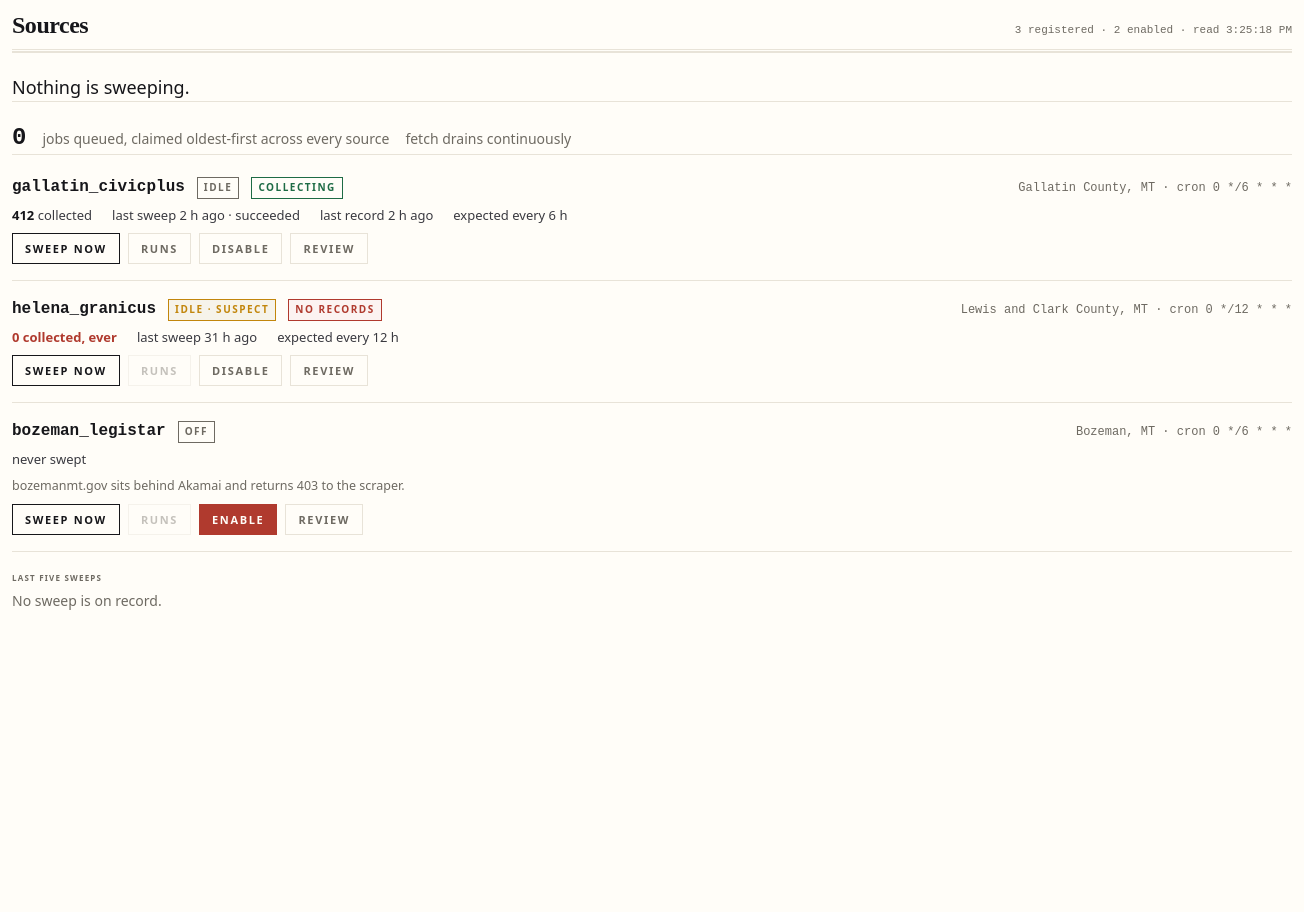
AdminSourcesPage › requires a typed reason before a source can be enabled
Click the button with test id "toggle-s3" at (238, 519), box [199, 504, 278, 535]
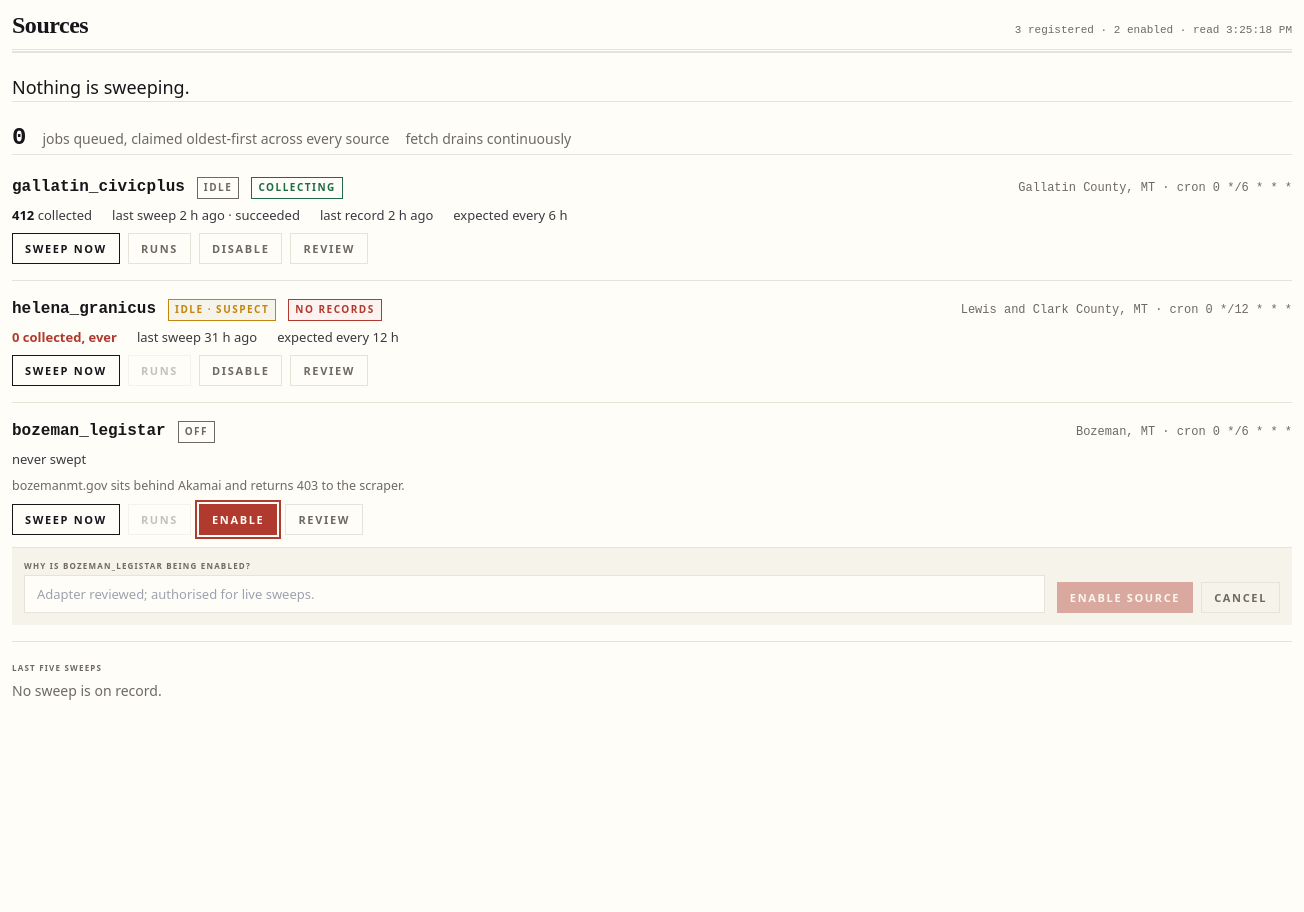
Expected: the button "Enable source" is disabled, [1057, 582, 1193, 613]
Type "Adapter reviewed." into the field labelled "Why is bozeman_legistar being enabled?" at (534, 594), box [24, 575, 1045, 613]
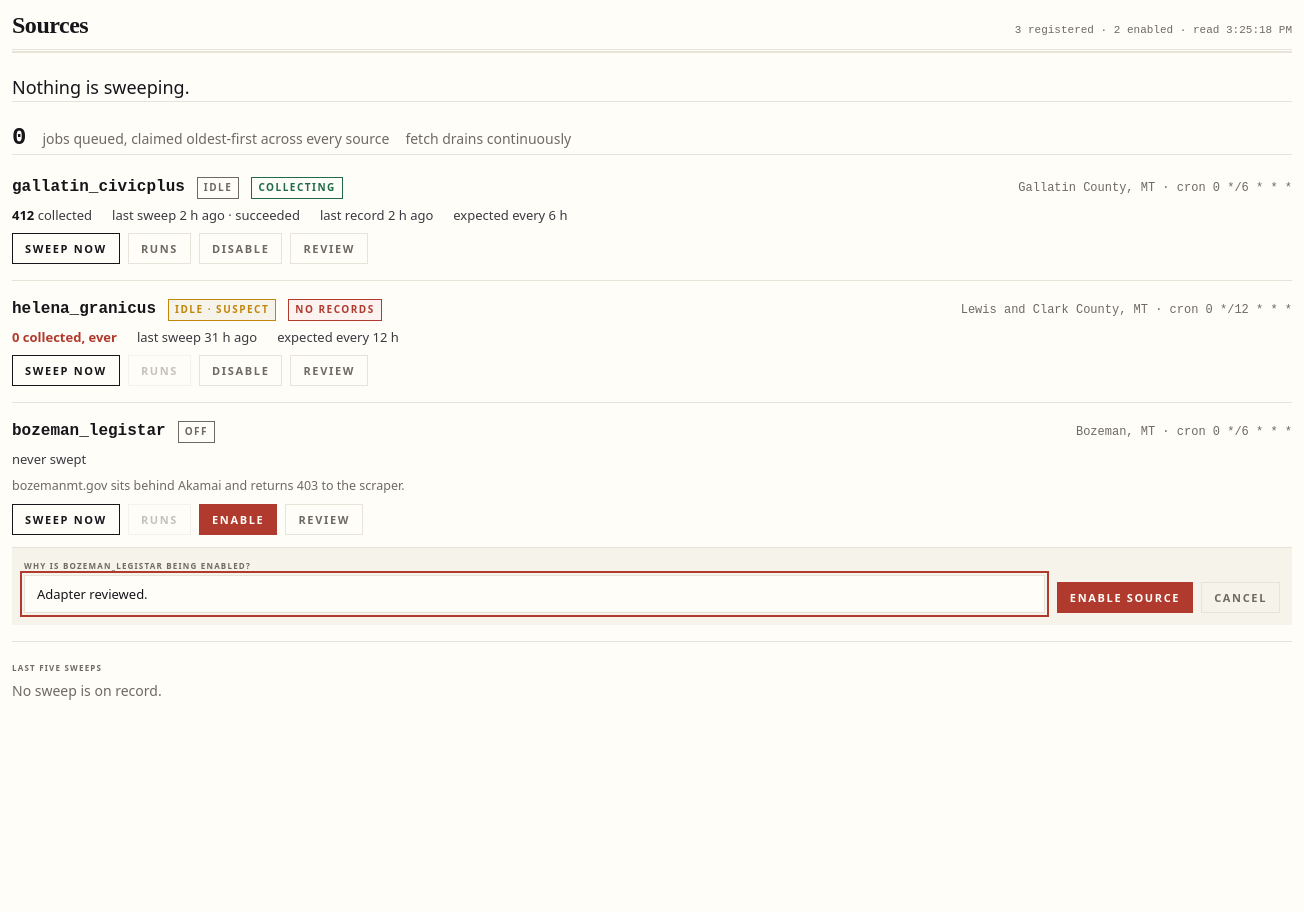
Expected: the button "Enable source" is enabled, [1057, 582, 1193, 613]
